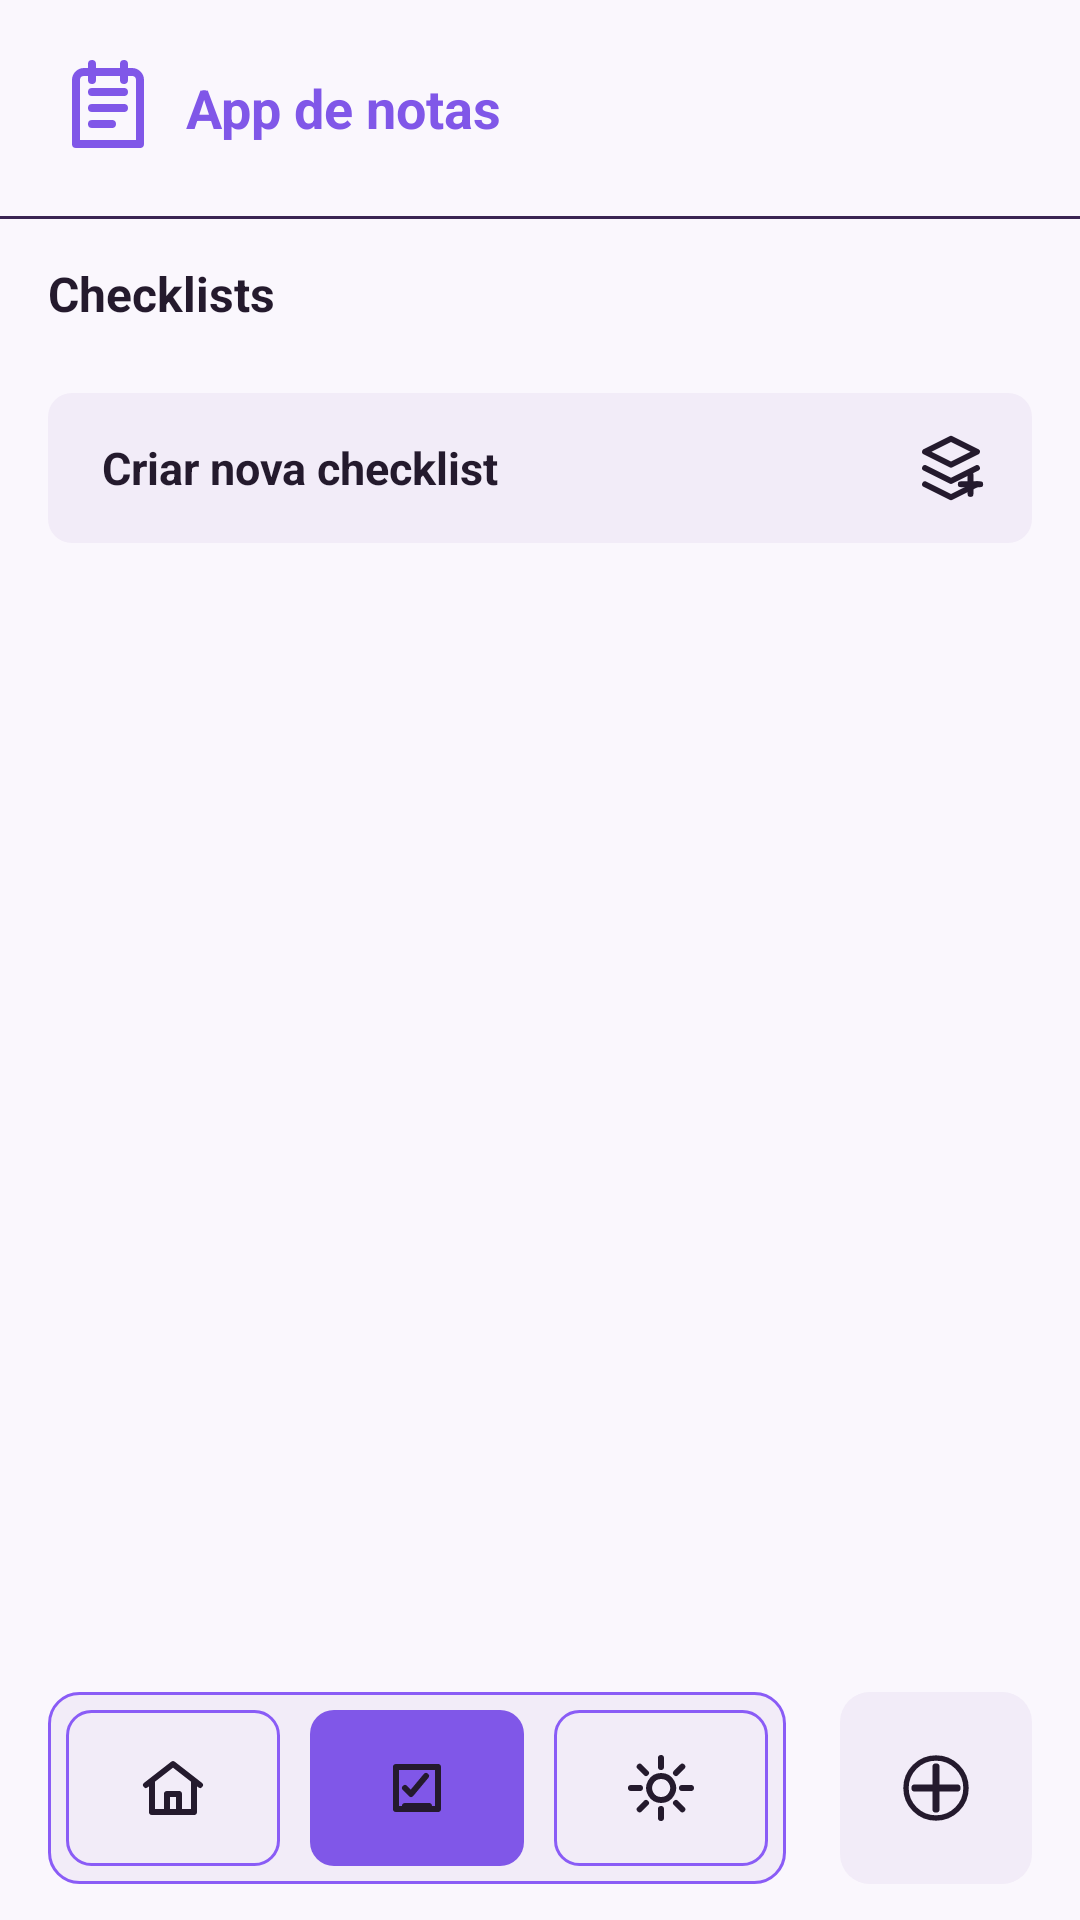

Named icons in this screenshot (1080px x 1920px) and their centers, (x,y):
Adicionar checklist: (936,1788)
Checklists: (417,1788)
Configuracoes: (661,1788)
note: (108,104)
Tela inicial: (173,1788)
